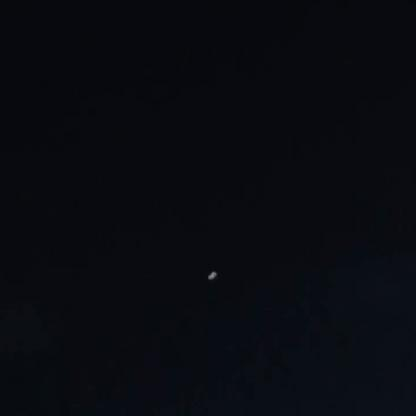ball: (202, 268, 219, 284)
